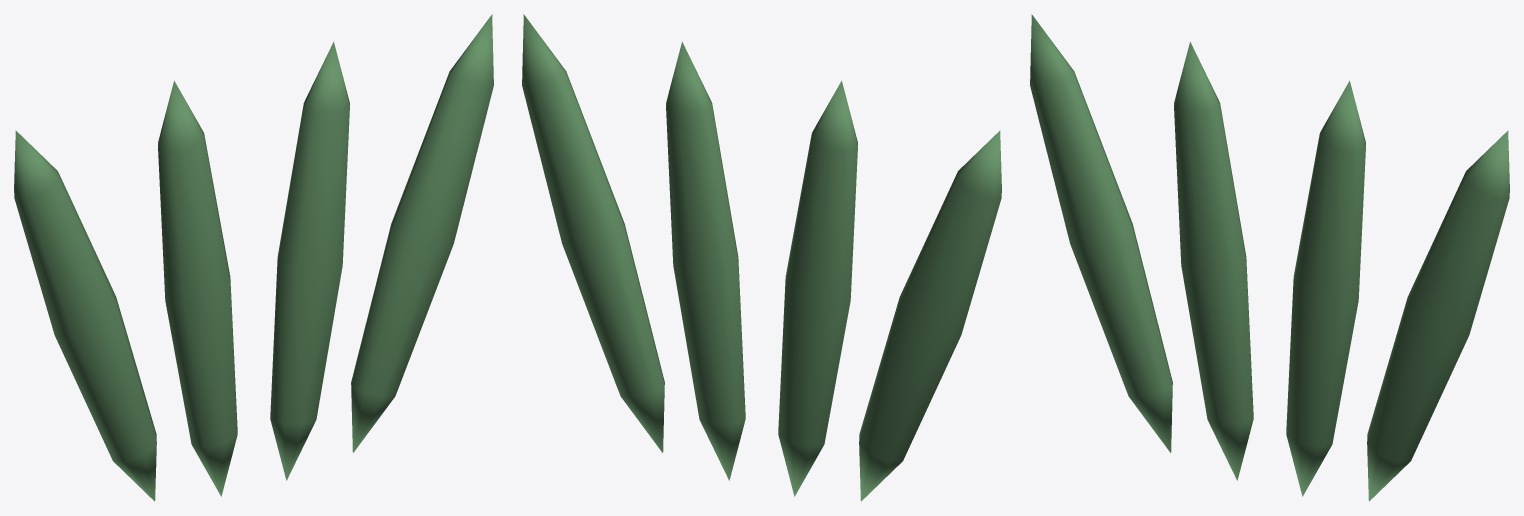
Rendered from grass.glb.
3 renders of one model, left to right at view 1: azimuth 30°, elevation 25°; view 2: azimuth 150°, elevation 25°; view 3: azimuth 330°, elevation 25°, orthographic.
Visible parts, largest first — view 1: body; view 2: body; view 3: body.
Part boxes in pixels (<box>): body: <box>14,14,493,501</box>; body: <box>522,14,1001,501</box>; body: <box>1030,14,1509,501</box>.
Bounding box in the file's own units: 0.5118 × 0.4371 × 0.05.
